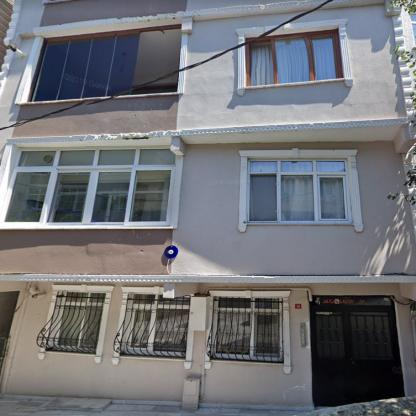door: (312, 295, 407, 405)
window: (4, 148, 172, 221), (28, 29, 180, 100), (247, 159, 351, 222), (245, 28, 344, 87), (209, 298, 283, 362), (122, 295, 190, 357), (49, 294, 106, 352)
